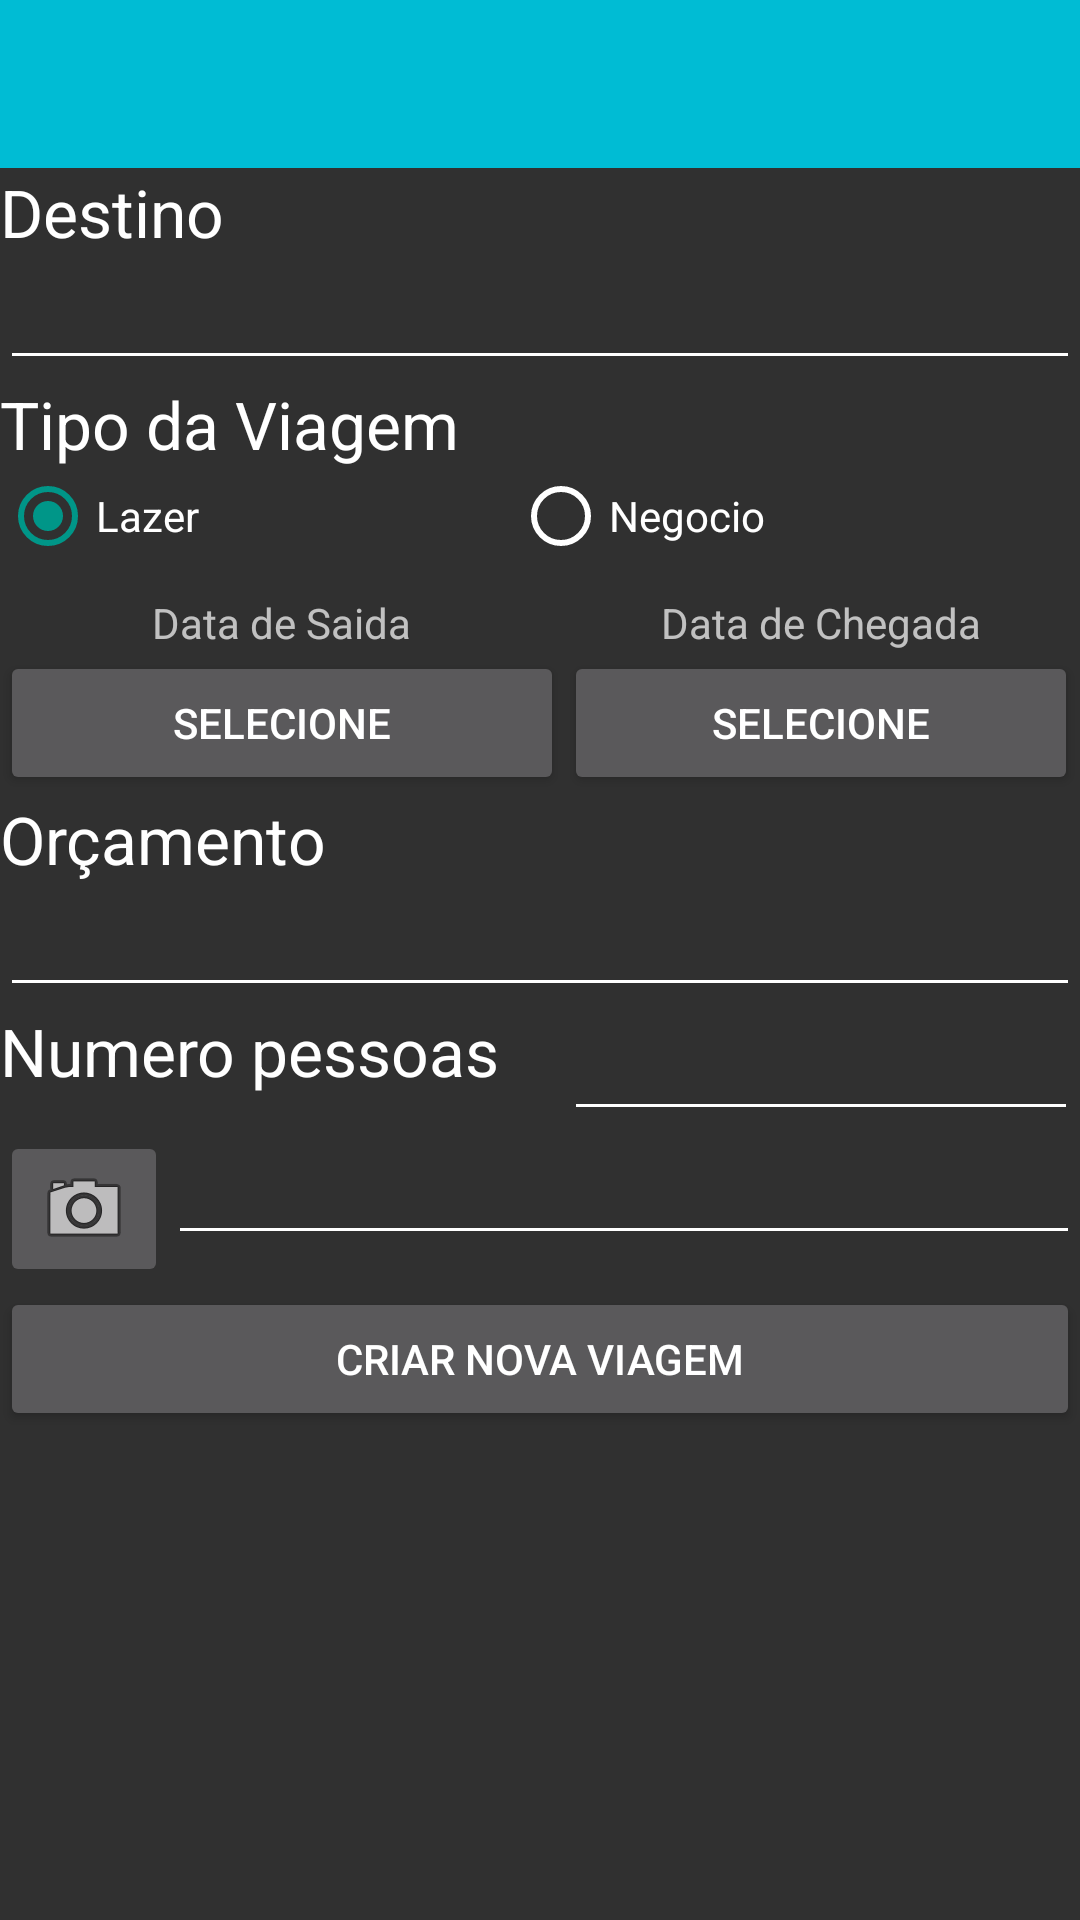

Icons on this 1080*1920 Android screen, each with the point to tap as (x,y):
camera: (84,1209)
